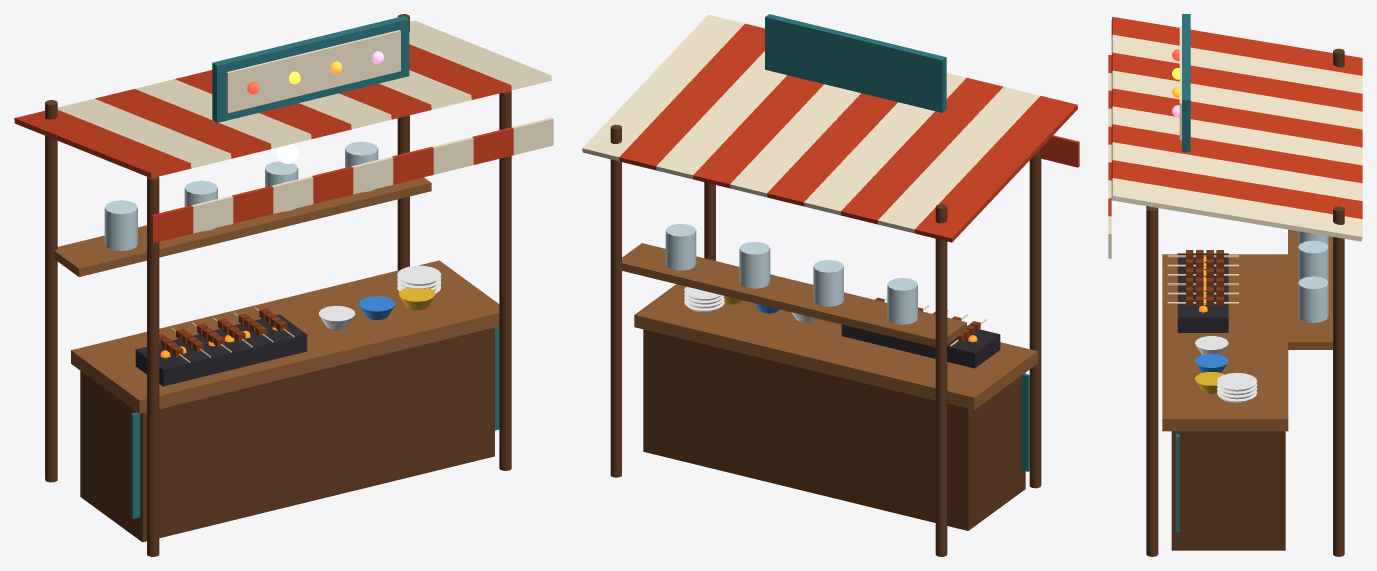
The model's file is market_stall.glb.
The picture shows the model from 3 angles, left to right: view 1: azimuth 30°, elevation 25°; view 2: azimuth 150°, elevation 25°; view 3: azimuth 270°, elevation 25°; orthographic projection. The views are drawn at different scales.
Size of the model in its own units: 2.5 by 2.73 by 1.5.
